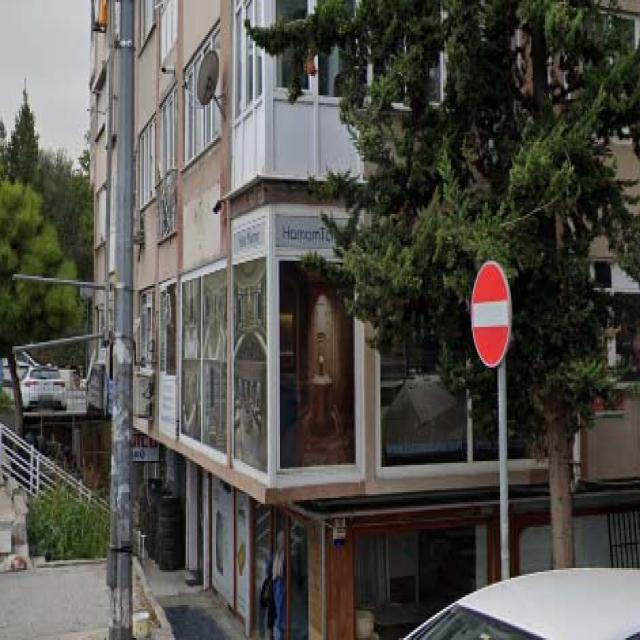girisyok: (472, 260, 509, 368)
